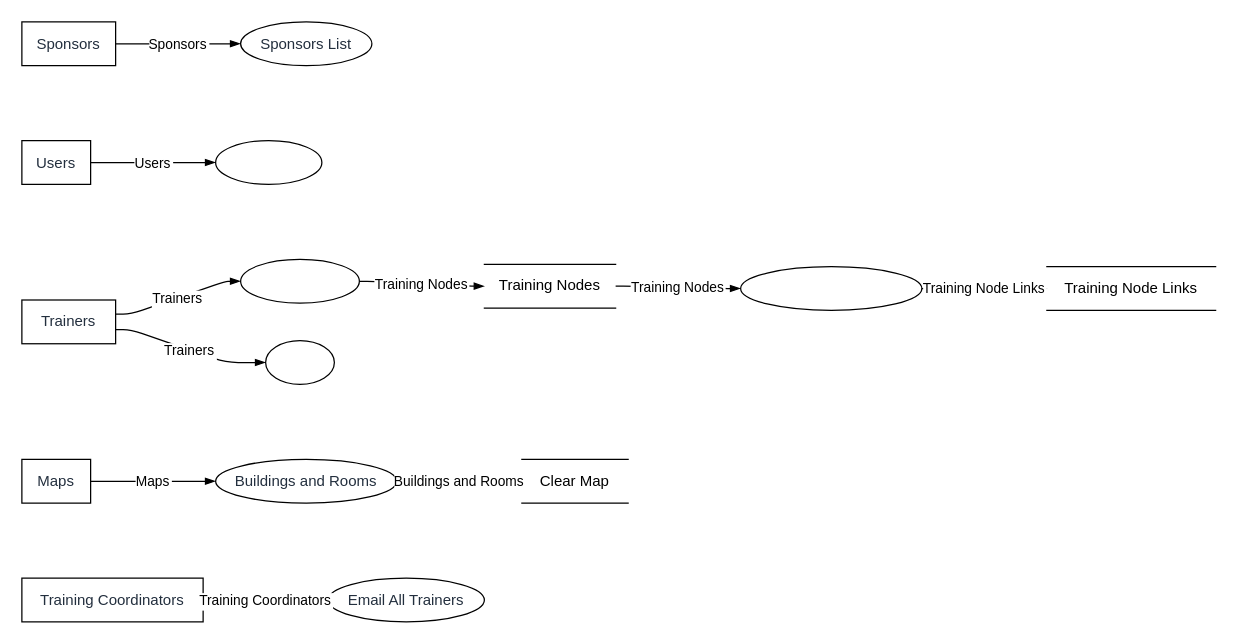
This 1238x644 diagram has some shape labels left out. The centre of each missing label's shape, as x and y in pixels:
"Email" goes at point 299,361.
"Trainers List" goes at point 299,280.
"Training Node Editing" goes at point 830,287.
"Users List" goes at point 268,161.
